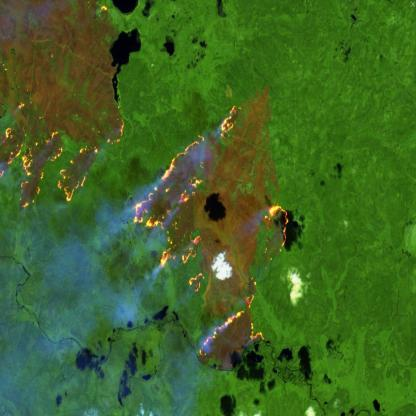fire: (132, 102, 290, 356), (0, 96, 126, 209)
